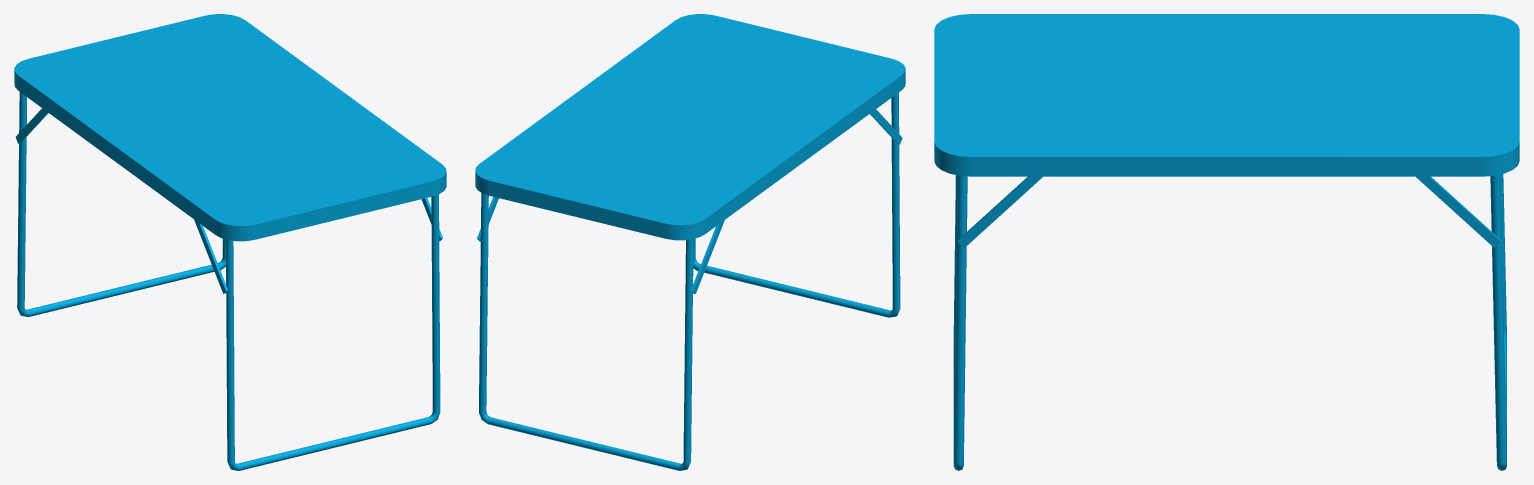
File: Table_02_Lod0.fbx
3 renders of one model, left to right at view 1: azimuth 30°, elevation 25°; view 2: azimuth 150°, elevation 25°; view 3: azimuth 270°, elevation 25°, orthographic. The views are drawn at different scales.
Visible parts, largest first — view 1: Table_02_Lod0; view 2: Table_02_Lod0; view 3: Table_02_Lod0.
Part boxes in pixels (left/top/right/bottom): Table_02_Lod0: left=14, top=14, right=446, bottom=470; Table_02_Lod0: left=475, top=14, right=905, bottom=470; Table_02_Lod0: left=934, top=14, right=1519, bottom=470.
Size of the model in its own units: 71.72 by 75.9 by 124.
